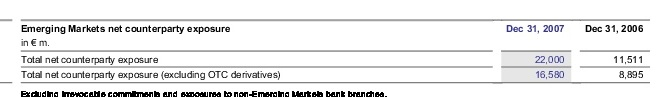table: (0, 0, 662, 97)
